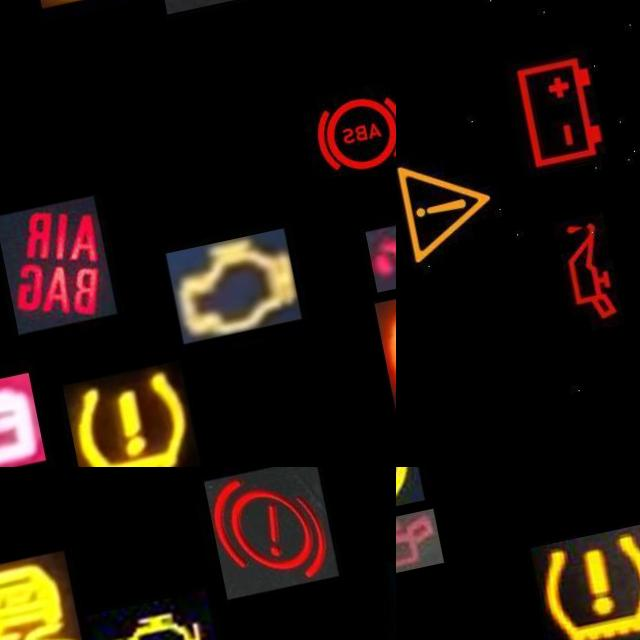Central Warning lamp: (141, 0, 278, 29)
Engine cooling system: (359, 565, 396, 640)
